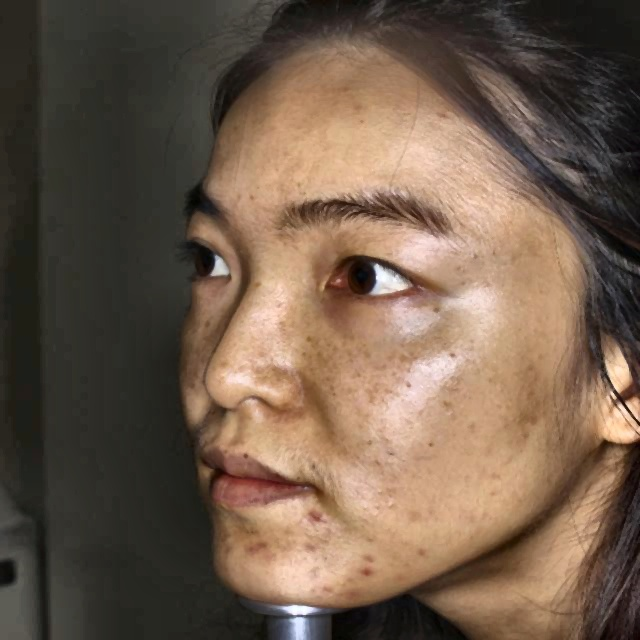comedone: (347, 560, 393, 583), (298, 504, 330, 532), (246, 539, 268, 560)
